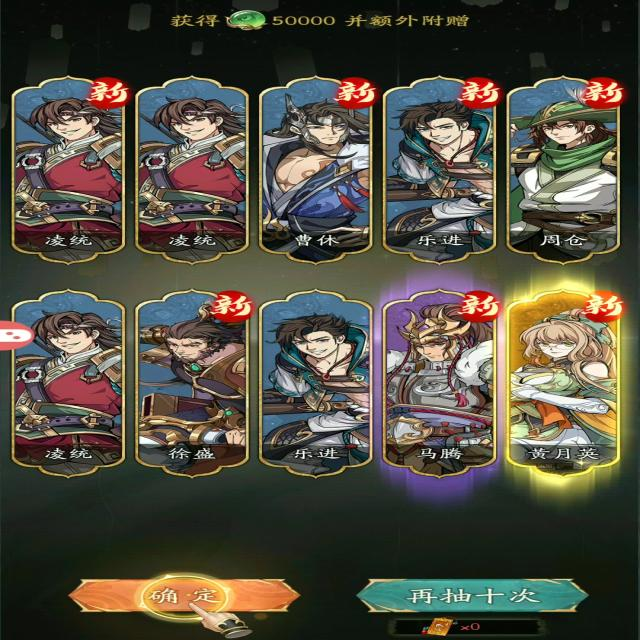hint-guide: (148, 563, 235, 626)
operation-enter: (59, 571, 294, 623)
operation-tenRecruit: (356, 572, 606, 612)
